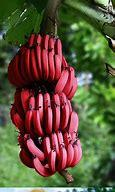banana: (13, 38, 93, 179), (0, 84, 83, 128), (8, 37, 81, 82), (20, 126, 79, 171)
